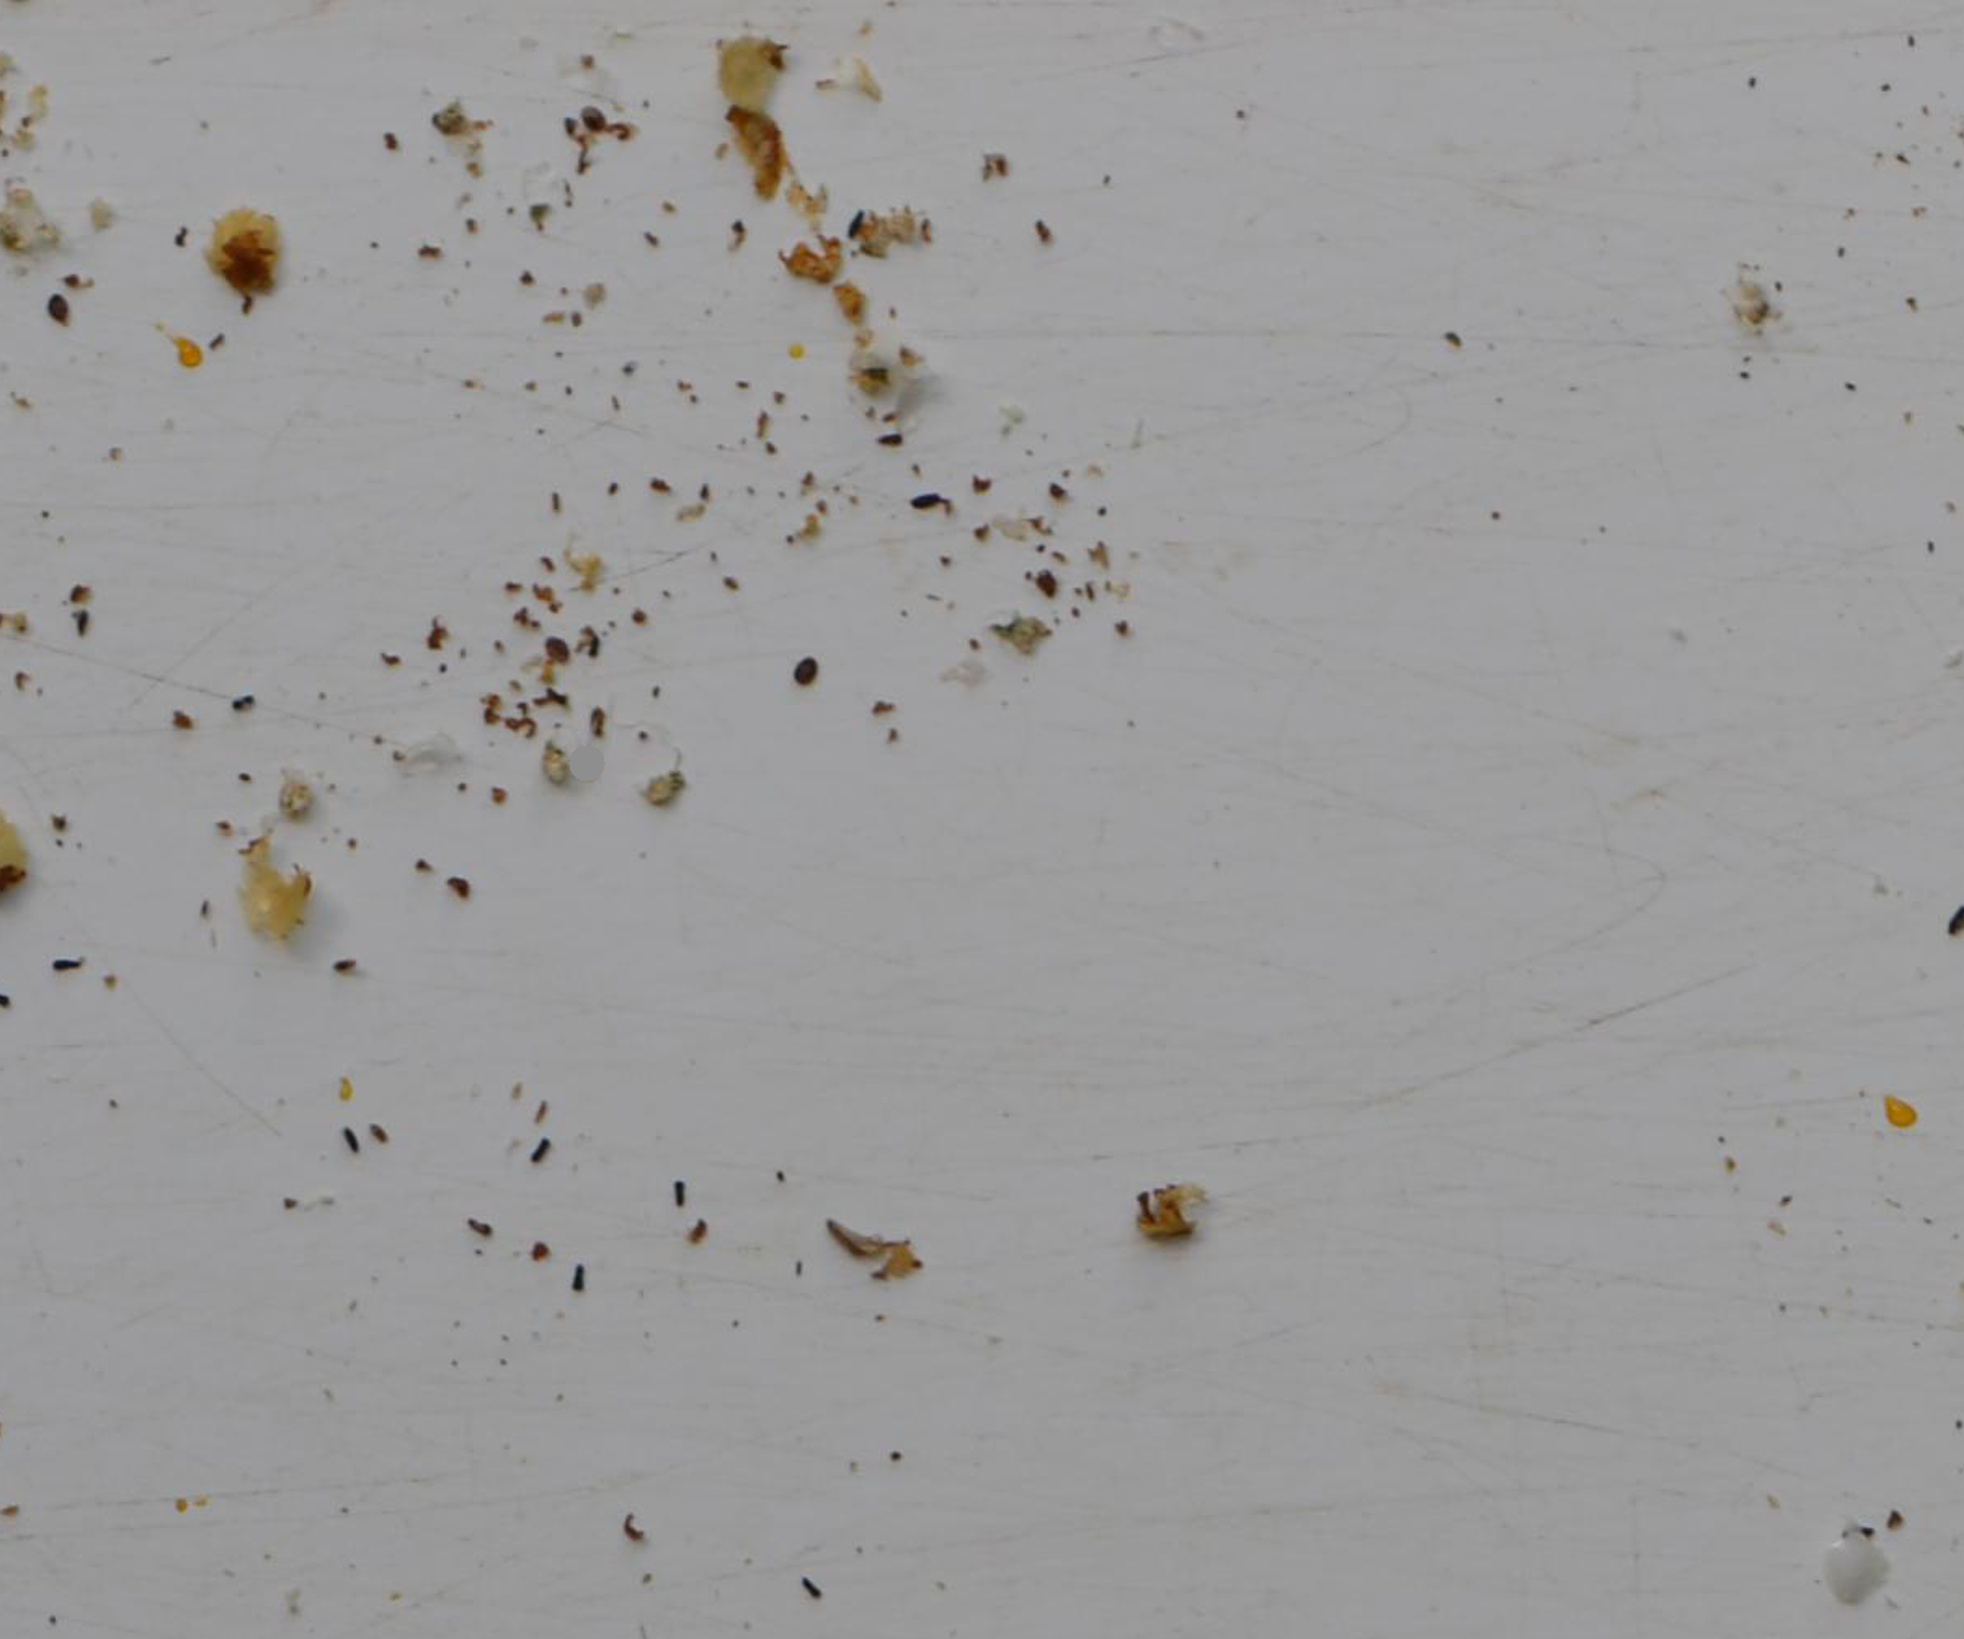Varroa: (790, 656, 825, 701), (582, 96, 617, 134), (44, 290, 78, 325), (538, 636, 568, 665)
